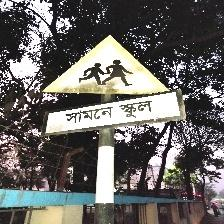School-in-front: (41, 35, 181, 138)
